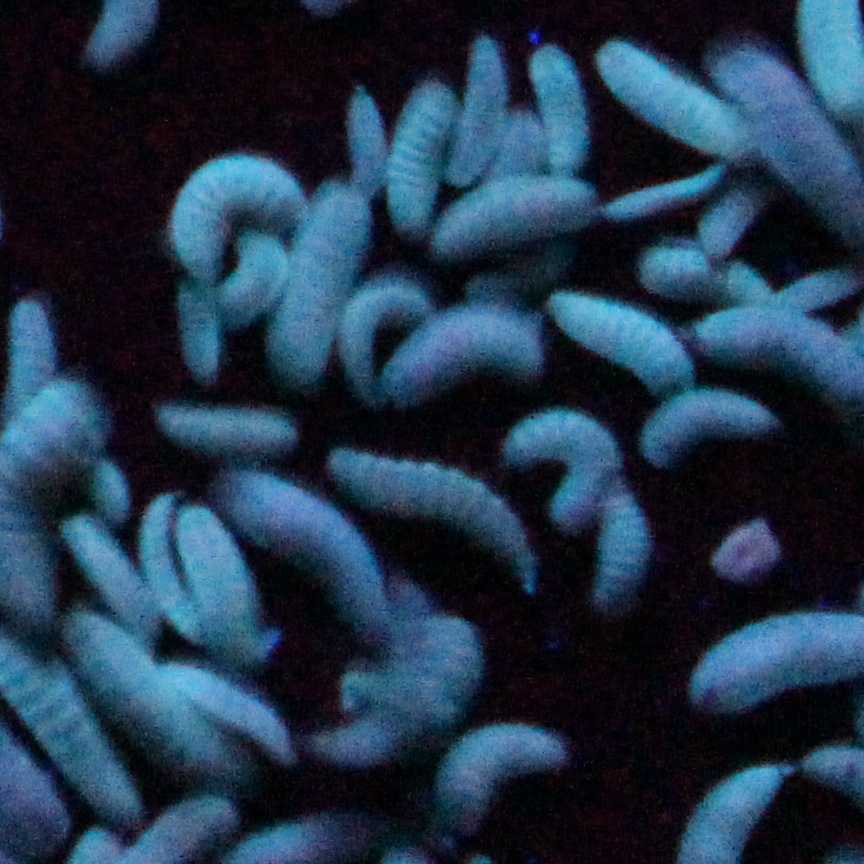larve: (236, 475, 409, 650), (321, 439, 539, 573), (73, 616, 239, 782), (318, 618, 482, 766), (591, 28, 761, 153), (268, 182, 368, 393), (511, 403, 639, 543), (161, 657, 309, 778), (173, 146, 307, 278), (430, 718, 582, 828), (427, 166, 593, 262), (389, 303, 546, 400), (550, 289, 711, 382), (168, 498, 255, 664), (336, 278, 441, 387), (64, 516, 159, 632), (155, 393, 305, 462), (391, 75, 450, 234), (448, 34, 509, 184), (641, 396, 789, 457), (136, 487, 193, 632), (2, 293, 73, 409), (525, 46, 586, 168), (339, 71, 393, 205), (591, 478, 639, 623), (218, 234, 298, 307), (634, 234, 730, 293), (605, 175, 736, 214), (177, 278, 227, 380), (691, 200, 771, 253)
